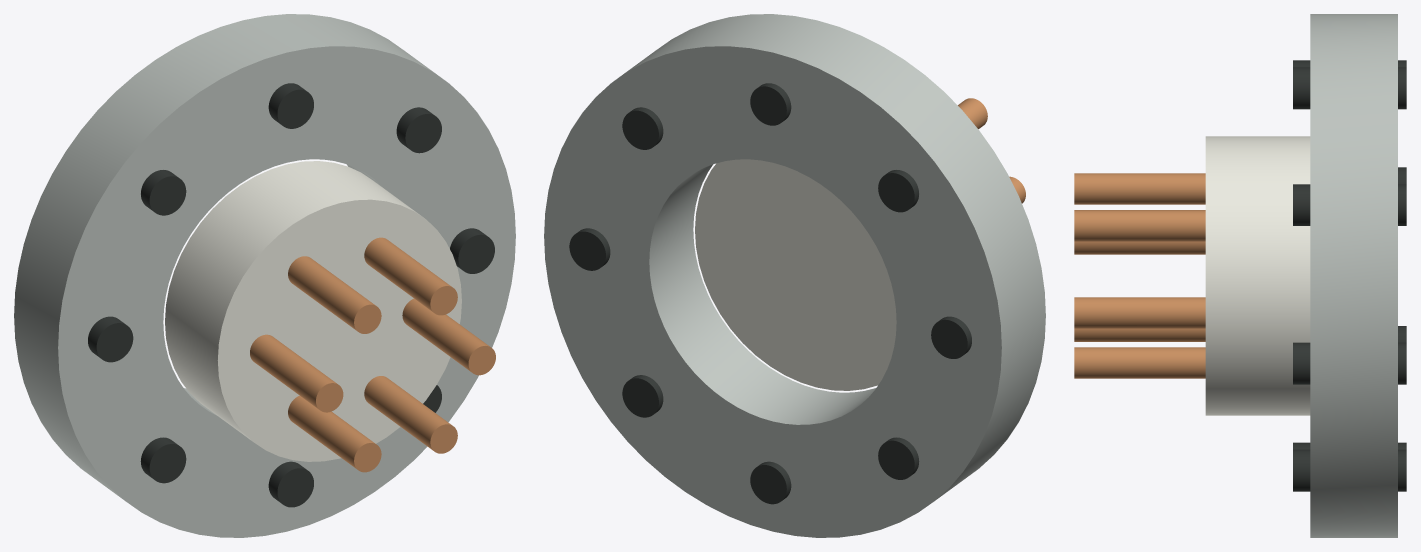
The model's file is spacecraft-thermal-test-chamber-harness-feedthrough-fl-f1a648e9__32038.glb.
3 views of the same model, side by side, from view 1: azimuth 30°, elevation 25°; view 2: azimuth 150°, elevation 25°; view 3: azimuth 270°, elevation 25° (orthographic).
Parts seen in each view (by area): view 1: harness-feedthrough-flange; view 2: harness-feedthrough-flange; view 3: harness-feedthrough-flange.
Part boxes in pixels (x1,y1,x2,y2): harness-feedthrough-flange: (14,14,515,537); harness-feedthrough-flange: (544,14,1045,537); harness-feedthrough-flange: (1074,14,1406,537).
Size of the model in its own units: 0.3 by 0.3 by 0.19.
